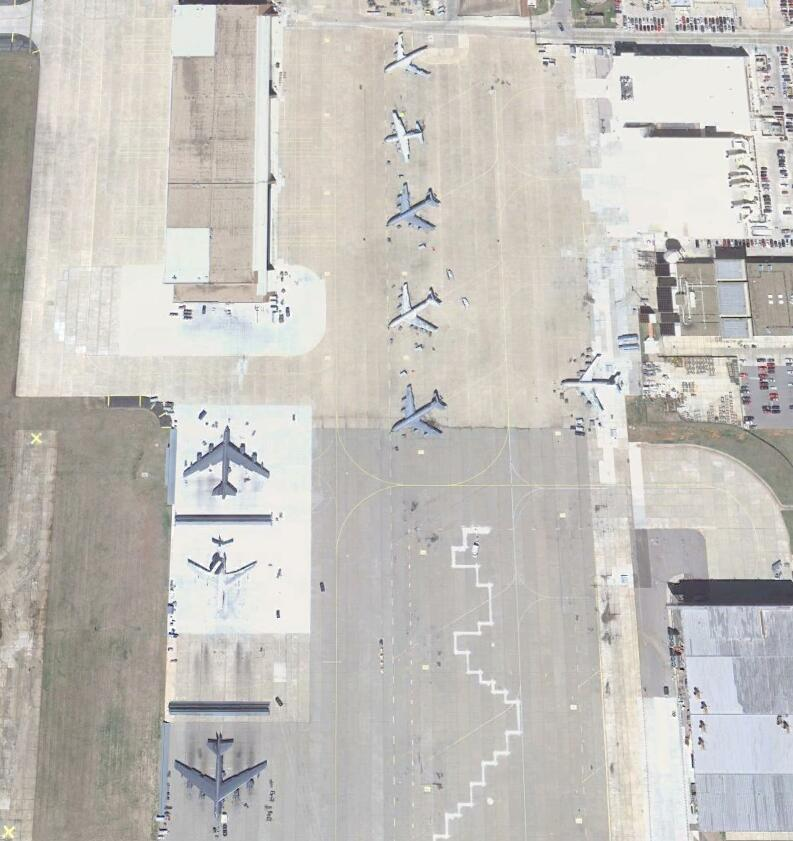A11: (561, 354, 625, 413), (387, 281, 442, 339)
A14: (390, 385, 448, 438), (386, 181, 444, 233)
A2: (382, 109, 427, 161)
A7: (186, 537, 261, 615)
A8: (173, 738, 271, 822), (184, 426, 269, 496)
